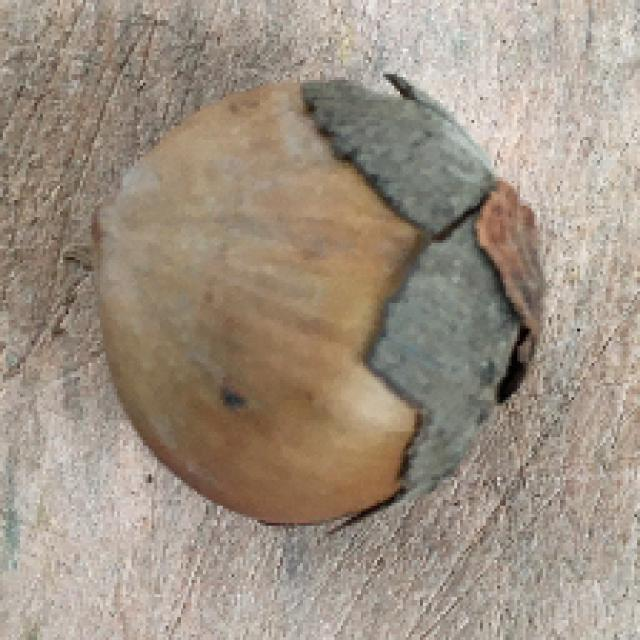damagedHazelnut: (99, 69, 536, 532)
